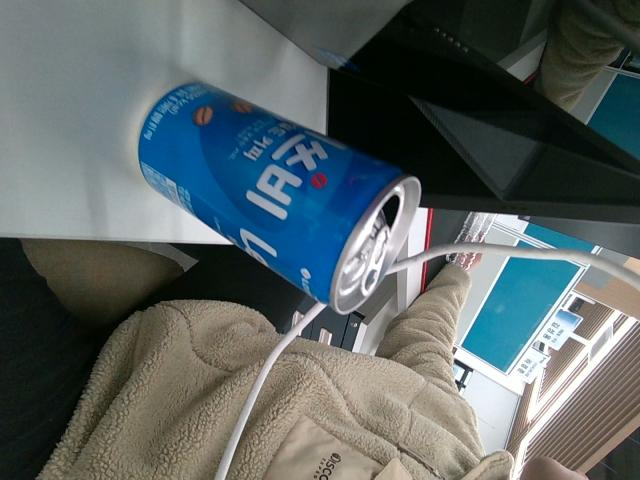letsbe: (136, 80, 422, 316)
